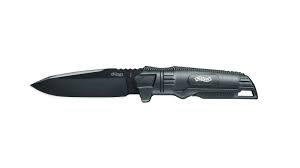knife: (29, 65, 259, 104)
